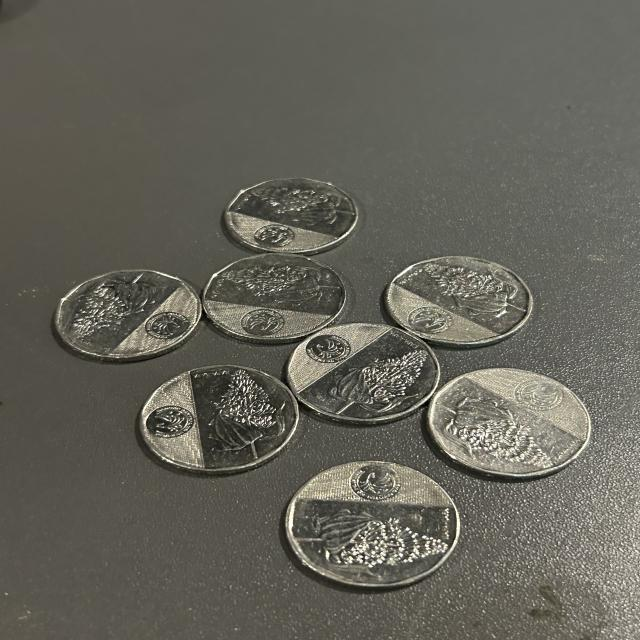10_New_Back: (320, 472, 459, 564), (157, 373, 286, 456), (440, 381, 578, 457), (298, 332, 422, 408), (409, 254, 510, 343), (210, 266, 322, 344), (64, 283, 194, 349), (248, 184, 345, 246)
